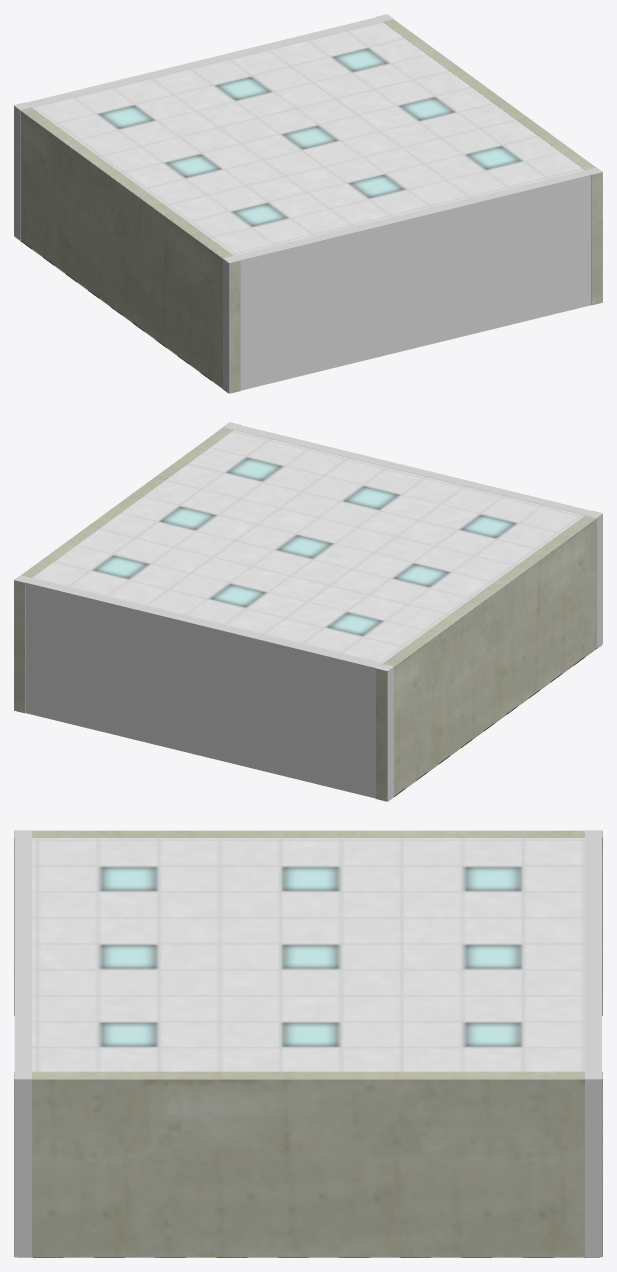
Rendered from Pvz_RoomScale.glb.
The picture shows the model from 3 angles, top to bottom: view 1: azimuth 30°, elevation 25°; view 2: azimuth 150°, elevation 25°; view 3: azimuth 270°, elevation 25°; orthographic projection. The views are drawn at different scales.
Visible parts, largest first — view 1: Ceiling-col, Front, Right-col, Left-col, Back; view 2: Ceiling-col, Back, Right-col, Left-col, Front; view 3: Ceiling-col, Left-col, Front, Back, Right-col, Floor-col.
Boxes of the visible parts, x1,y1,x2,y2 form: Ceiling-col: (20,19,595,258); Front: (223,167,602,393); Right-col: (14,102,240,393); Left-col: (376,14,602,305); Back: (14,14,393,240); Ceiling-col: (21,427,596,666); Back: (14,575,393,801); Right-col: (376,510,602,801); Left-col: (14,422,240,713); Front: (223,422,602,648); Ceiling-col: (32,838,584,1079); Left-col: (14,1071,602,1256); Front: (14,830,31,1257); Back: (585,830,601,1257); Right-col: (14,830,602,1015); Floor-col: (17,1257,599,1257).
Bounding box in the file's own units: 9.19 × 3.07 × 9.19.
4 materials, 4 textured.
